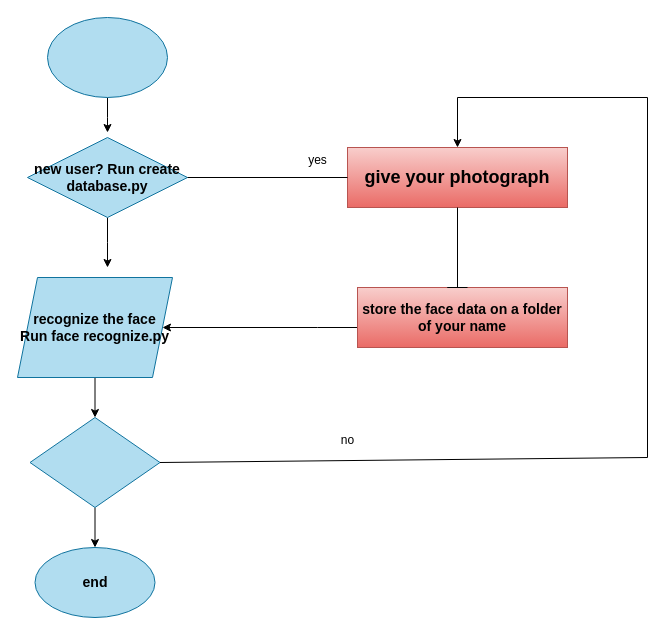
Image size: 666x635. Some labels were removed from this diagram. The centre of each missing label's shape, as x and y in pixels:
"face recognized" belongs at point 94,462.
"start" belongs at point 107,57.
